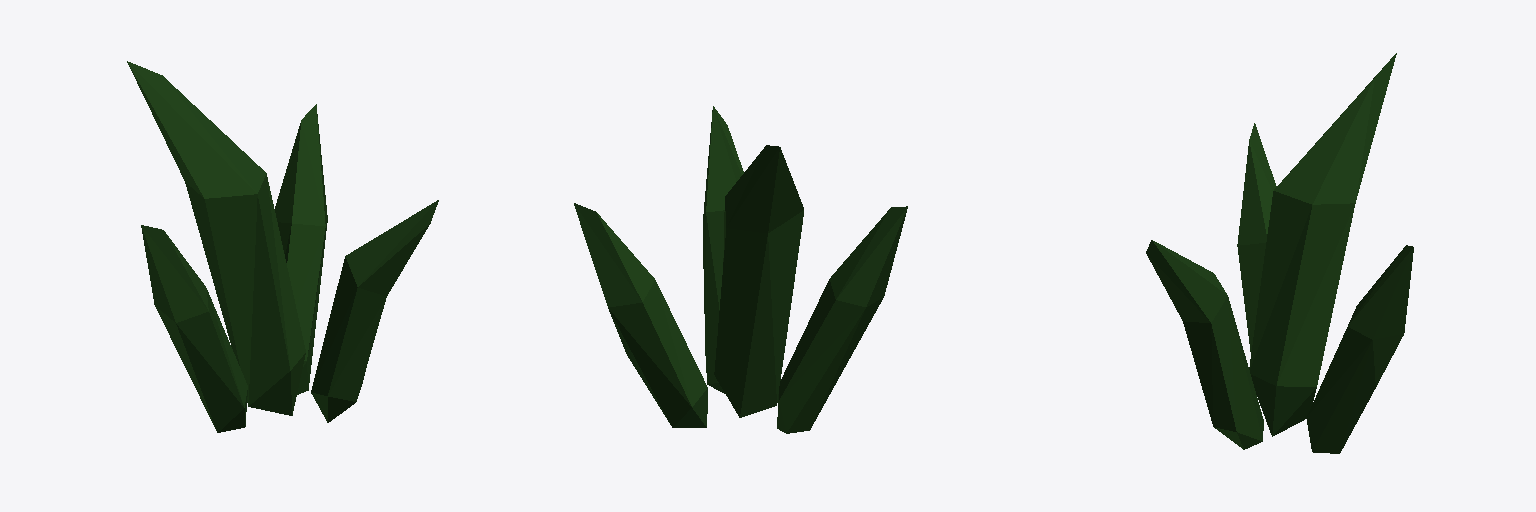
The model's file is env_grass2_mesh_01_v1.glb.mtl.obj.
The picture shows the model from 3 angles: view 1: azimuth 30°, elevation 25°; view 2: azimuth 150°, elevation 25°; view 3: azimuth 270°, elevation 25°; orthographic projection.
Visible parts, largest first — view 1: Grass2_LOD0; view 2: Grass2_LOD0; view 3: Grass2_LOD0.
Boxes of the visible parts, x1=… form: Grass2_LOD0: x1=127, y1=61, x2=438, y2=432; Grass2_LOD0: x1=574, y1=106, x2=907, y2=433; Grass2_LOD0: x1=1146, y1=53, x2=1413, y2=453.
Bounding box in the file's own units: 2.33 × 2.96 × 2.13.